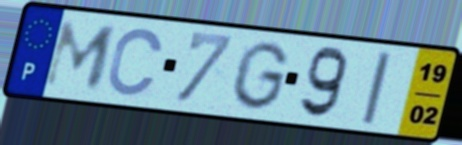7: (175, 29, 236, 106)
9: (296, 46, 352, 120)
C: (104, 26, 166, 99)
G: (227, 39, 293, 113)
I: (359, 49, 394, 127)
M: (39, 18, 121, 92)
